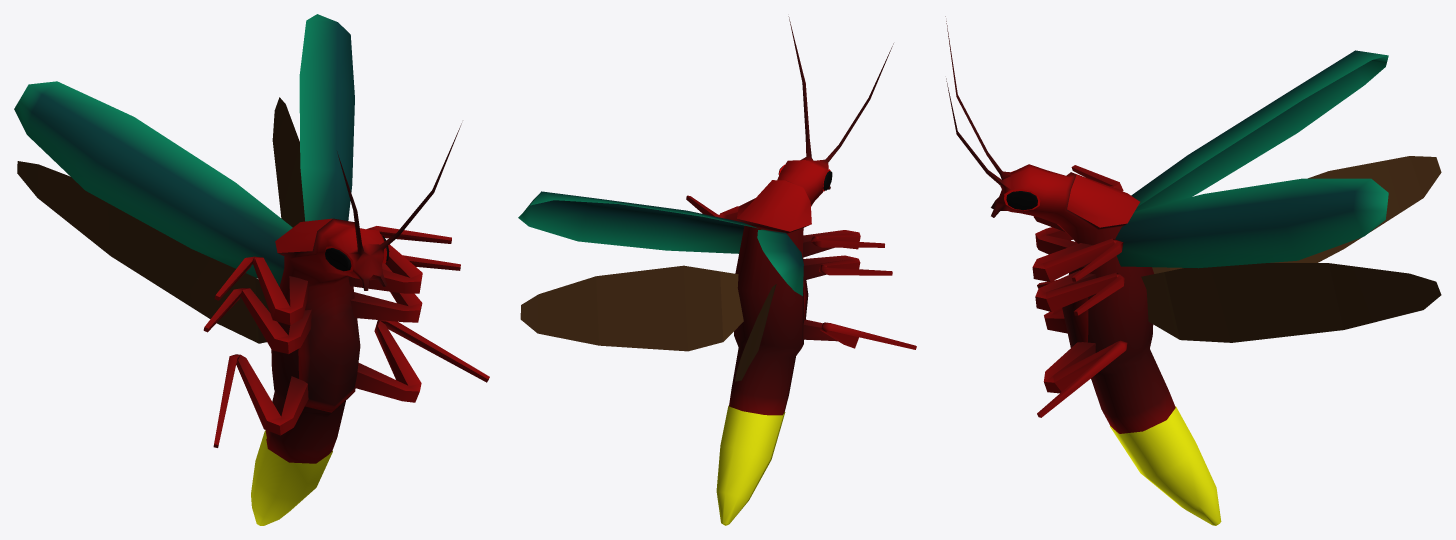
The model's file is FlyingInsects_Firefly.fbx.
3 views of the same model, side by side, from view 1: azimuth 30°, elevation 25°; view 2: azimuth 150°, elevation 25°; view 3: azimuth 270°, elevation 25° (orthographic). The views are drawn at different scales.
Visible parts, largest first — view 1: base, DblSided, transp, light; view 2: base, transp, DblSided, light; view 3: DblSided, base, transp, light.
Part boxes in pixels (<box>): base: <box>203,123,489,463</box>; DblSided: <box>14,14,354,286</box>; transp: <box>17,97,305,343</box>; light: <box>251,430,332,525</box>; base: <box>686,16,916,415</box>; transp: <box>520,265,776,381</box>; DblSided: <box>518,191,803,295</box>; light: <box>716,405,785,525</box>; DblSided: <box>1115,50,1388,268</box>; base: <box>945,16,1175,433</box>; transp: <box>1141,156,1441,342</box>; light: <box>1110,406,1221,525</box>.
Size of the model in its own units: 16.68 by 24.53 by 22.89.
